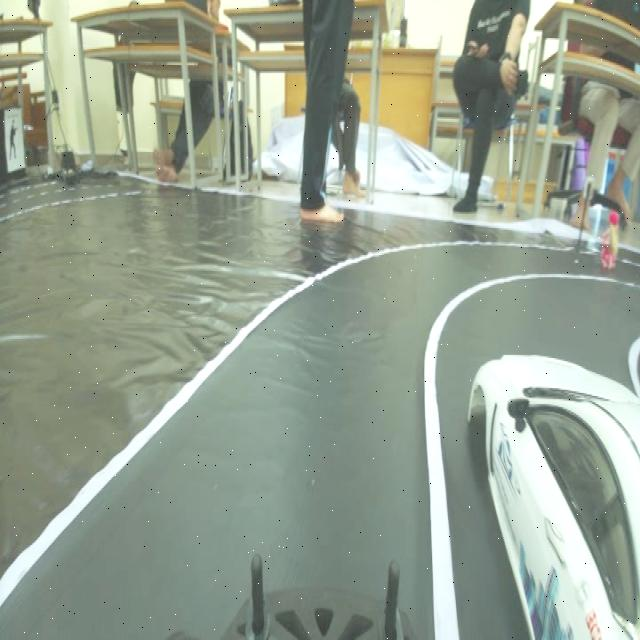car: (454, 312, 640, 640)
